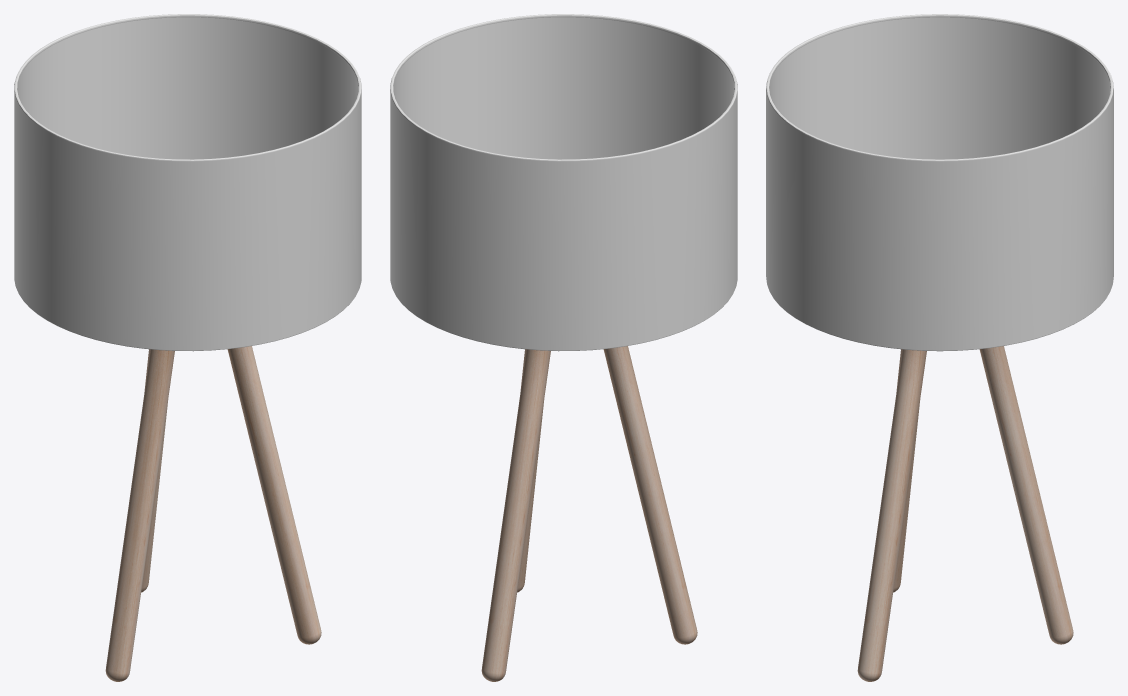
Rendered from Tripod White Lamp.glb.
The picture shows the model from 3 angles, left to right: view 1: azimuth 30°, elevation 25°; view 2: azimuth 150°, elevation 25°; view 3: azimuth 270°, elevation 25°; orthographic projection.
Parts seen in each view (by area): view 1: Eric_Tripod_Table_Lamp_Charcoal_LAMP_SHADE_GRAY_0, Eric_Tripod_Table_Lamp_Charcoal_LAMP_SHADE_WHITE_0, Eric_Tripod_Table_Lamp_Charcoal_WOOD_0; view 2: Eric_Tripod_Table_Lamp_Charcoal_LAMP_SHADE_GRAY_0, Eric_Tripod_Table_Lamp_Charcoal_LAMP_SHADE_WHITE_0, Eric_Tripod_Table_Lamp_Charcoal_WOOD_0; view 3: Eric_Tripod_Table_Lamp_Charcoal_LAMP_SHADE_GRAY_0, Eric_Tripod_Table_Lamp_Charcoal_LAMP_SHADE_WHITE_0, Eric_Tripod_Table_Lamp_Charcoal_WOOD_0.
Part boxes in pixels (x1,y1,x2,y2): Eric_Tripod_Table_Lamp_Charcoal_LAMP_SHADE_GRAY_0: (14,14,361,351); Eric_Tripod_Table_Lamp_Charcoal_LAMP_SHADE_WHITE_0: (17,17,358,159); Eric_Tripod_Table_Lamp_Charcoal_WOOD_0: (105,346,321,681); Eric_Tripod_Table_Lamp_Charcoal_LAMP_SHADE_GRAY_0: (390,14,737,351); Eric_Tripod_Table_Lamp_Charcoal_LAMP_SHADE_WHITE_0: (393,17,734,159); Eric_Tripod_Table_Lamp_Charcoal_WOOD_0: (481,346,697,681); Eric_Tripod_Table_Lamp_Charcoal_LAMP_SHADE_GRAY_0: (766,14,1113,351); Eric_Tripod_Table_Lamp_Charcoal_LAMP_SHADE_WHITE_0: (769,17,1110,159); Eric_Tripod_Table_Lamp_Charcoal_WOOD_0: (857,346,1073,681).
Size of what is drawn, in the model's own units: 28.96 by 50.71 by 28.96.
Materials: 6 (4 with a texture image).
